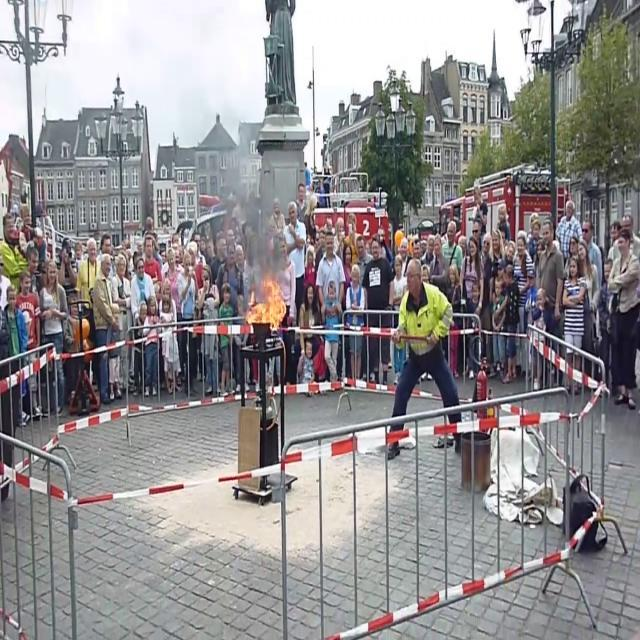Fire: (252, 273, 298, 328)
Smoke: (208, 136, 292, 275)
